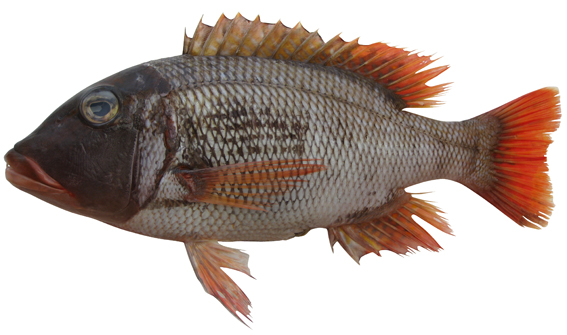fish: (3, 10, 563, 329)
